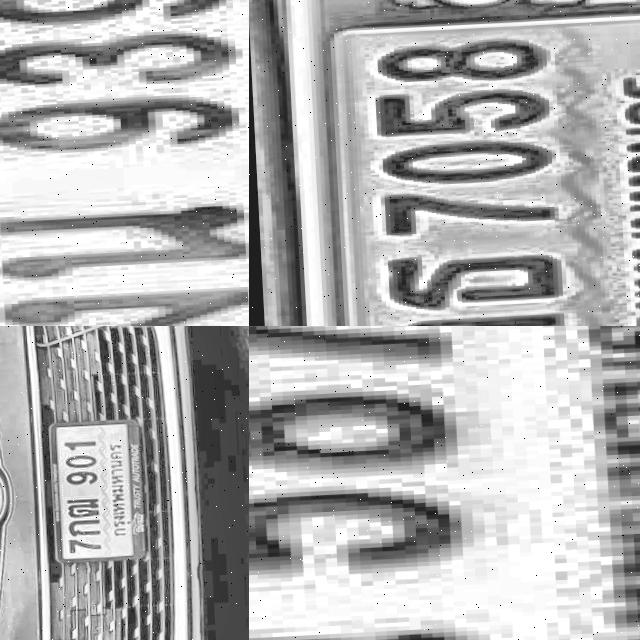license-plate: (249, 0, 640, 326), (249, 326, 640, 640), (0, 0, 249, 326), (44, 422, 145, 568)
